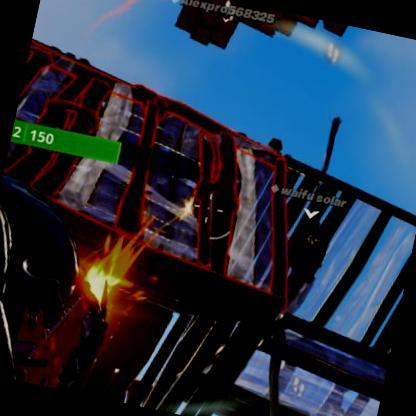person: (286, 221, 330, 284)
